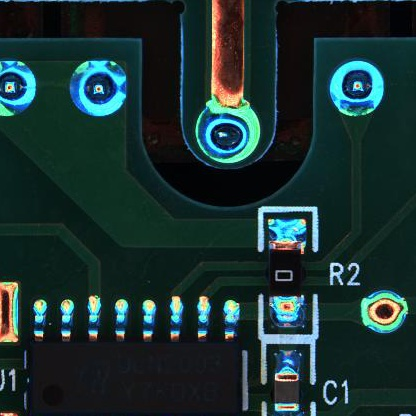spot: (194, 105, 263, 166), (326, 58, 387, 117), (69, 60, 131, 117), (358, 287, 410, 335)
